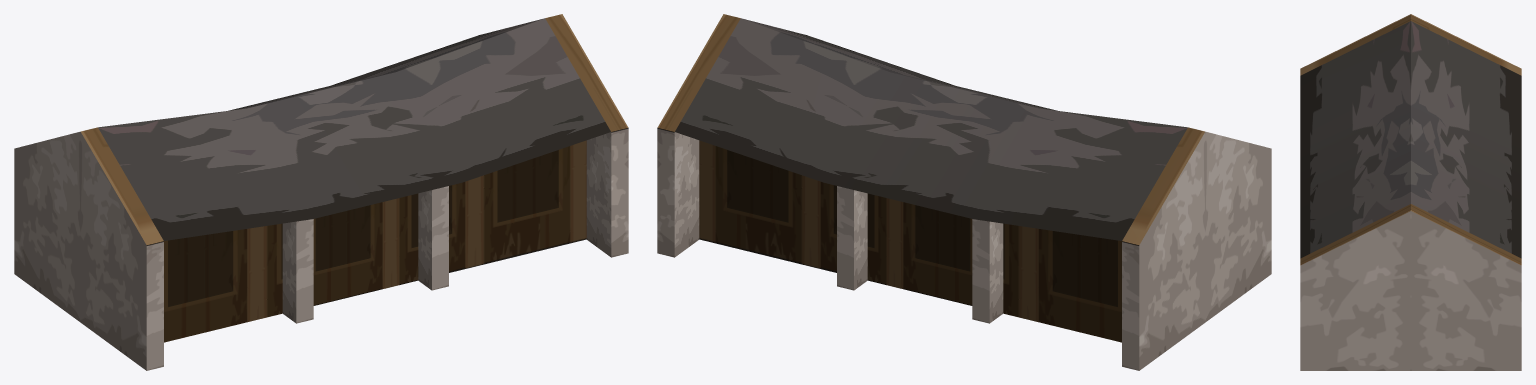
Rendered from SM_Building_Rural_04.fbx.
The picture shows the model from 3 angles, left to right: view 1: azimuth 30°, elevation 25°; view 2: azimuth 150°, elevation 25°; view 3: azimuth 270°, elevation 25°; orthographic projection. The views are drawn at different scales.
Visible parts, largest first — view 1: SM_Building_Rural_04; view 2: SM_Building_Rural_04; view 3: SM_Building_Rural_04.
Boxes of the visible parts, x1,y1,x2,y2 form: SM_Building_Rural_04: [14, 14, 628, 370]; SM_Building_Rural_04: [657, 14, 1271, 370]; SM_Building_Rural_04: [1300, 14, 1521, 370].
Bounding box in the file's own units: 14.22 × 5.39 × 6.76.
